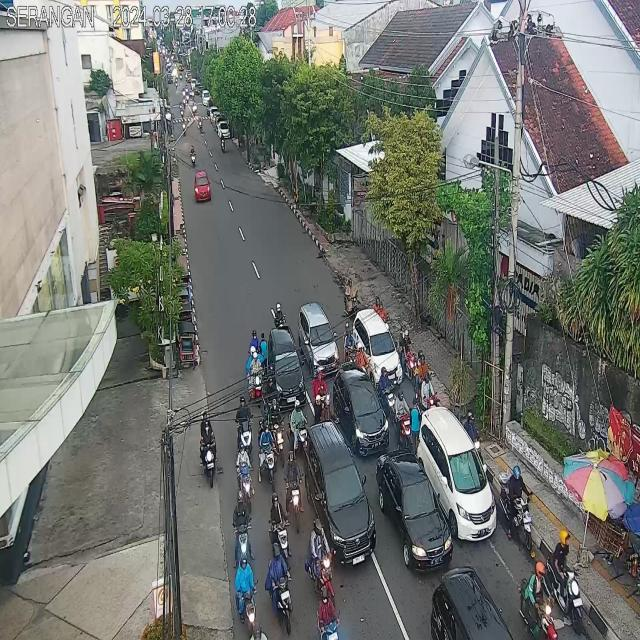car: (417, 410, 498, 542), (304, 421, 376, 567), (375, 453, 459, 575), (431, 567, 527, 640), (332, 364, 390, 459), (354, 308, 403, 390), (268, 328, 305, 409), (298, 300, 338, 374), (193, 172, 212, 205)
motorcycle: (545, 528, 583, 636), (517, 561, 558, 640), (499, 464, 534, 554), (264, 542, 296, 636), (306, 518, 336, 610), (232, 553, 259, 640), (266, 492, 292, 570), (282, 449, 305, 534), (232, 490, 253, 578), (198, 408, 218, 491), (263, 399, 285, 468), (394, 388, 416, 456), (235, 443, 255, 515), (315, 583, 340, 640), (257, 417, 276, 492), (234, 394, 253, 466), (287, 399, 308, 456), (311, 367, 332, 424), (398, 323, 416, 381), (378, 367, 396, 425), (246, 346, 262, 408), (414, 349, 432, 402), (418, 373, 440, 414), (342, 322, 356, 365)
